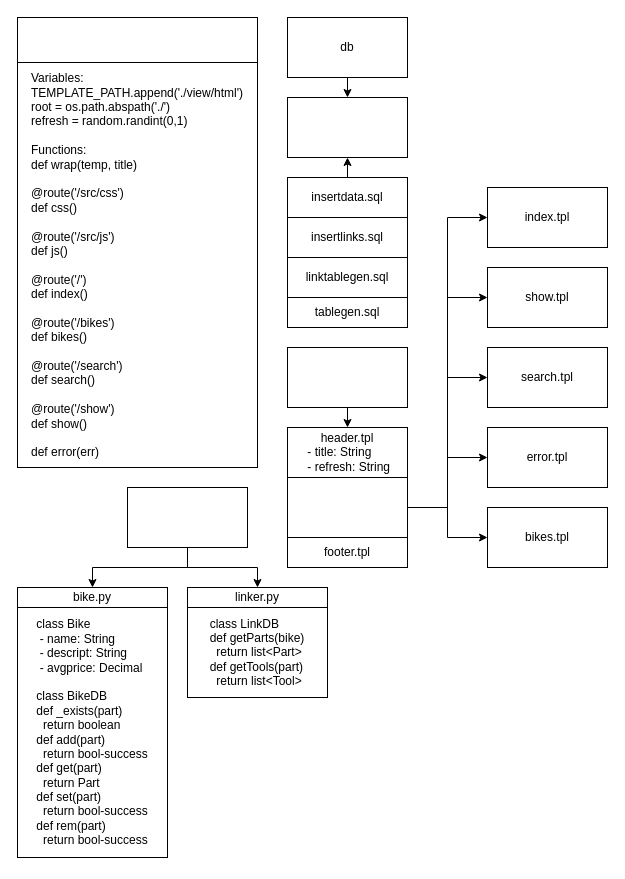
Some shapes in this 625 by 879 pixel diagram are drawn without their labels. The centre of each missing label's shape, as x and y in pixels:
db.sqlite3: pixel 347 127
main.py: pixel 137 39
model (directory): pixel 187 517
Page Content: pixel 347 507
view (directory): pixel 347 377
